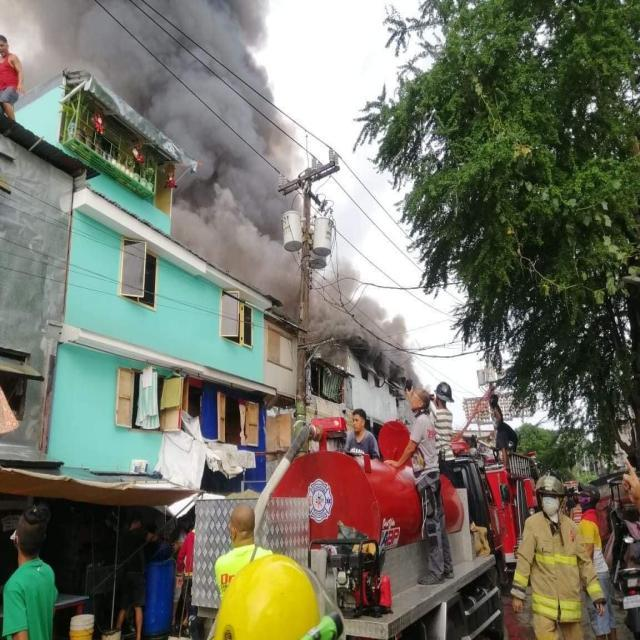Smoke: (122, 0, 300, 301), (317, 270, 408, 364)
